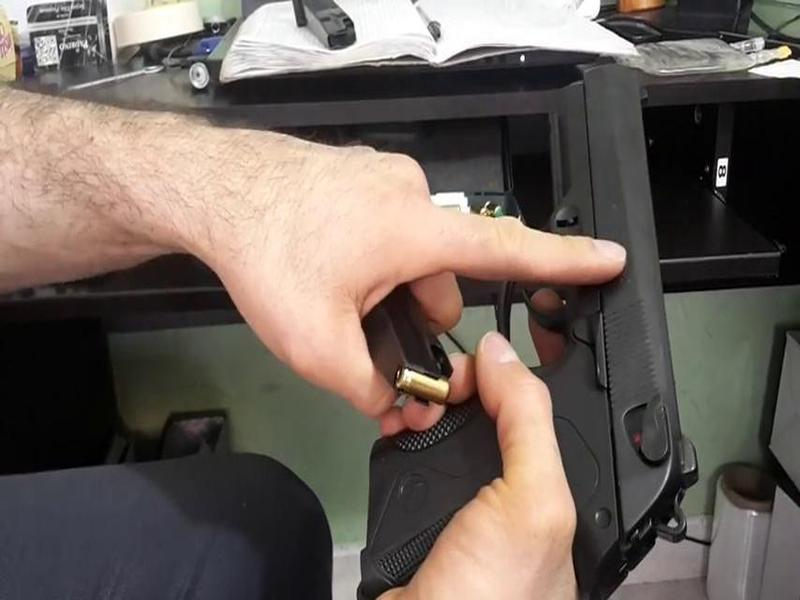Pistola: (331, 55, 704, 600)
